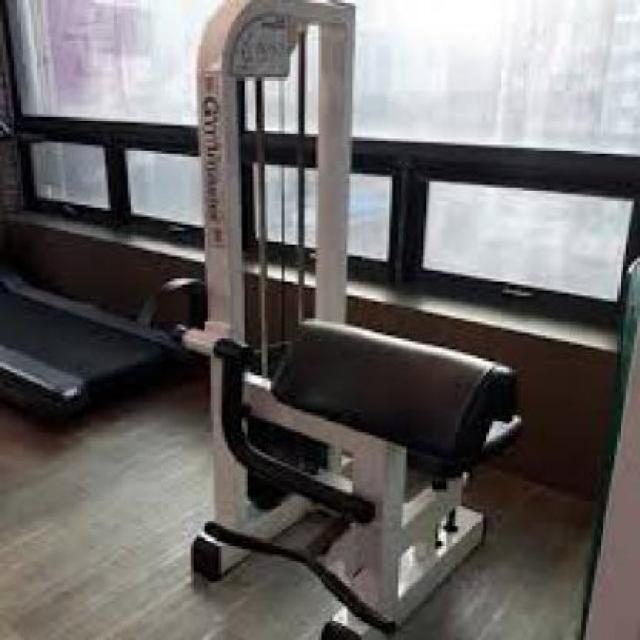arm curl machine: (144, 1, 527, 640)
